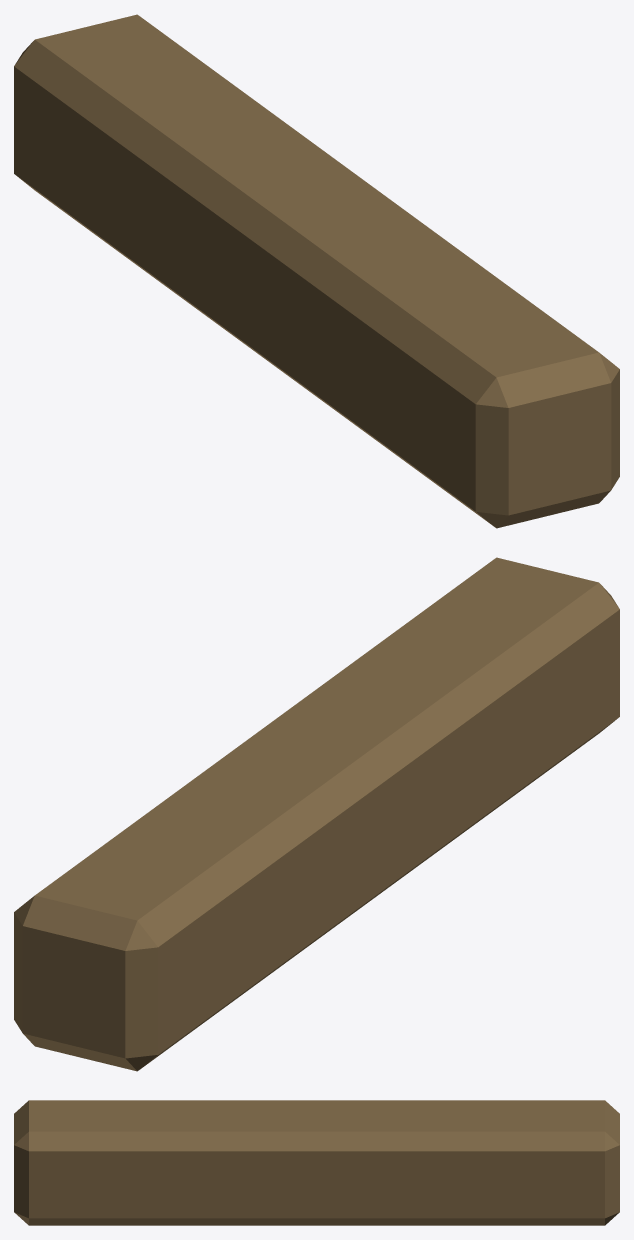
Rendered from Wood.fbx.
3 views of the same model, one above another, from view 1: azimuth 30°, elevation 25°; view 2: azimuth 150°, elevation 25°; view 3: azimuth 270°, elevation 25° (orthographic). The views are drawn at different scales.
Parts seen in each view (by area): view 1: Wood; view 2: Wood; view 3: Wood.
Part boxes in pixels (left/top/right/bottom): Wood: left=14, top=14, right=619, bottom=528; Wood: left=14, top=557, right=619, bottom=1071; Wood: left=14, top=1100, right=619, bottom=1225.
Bounding box in the file's own units: 45.06 × 45.06 × 263.
